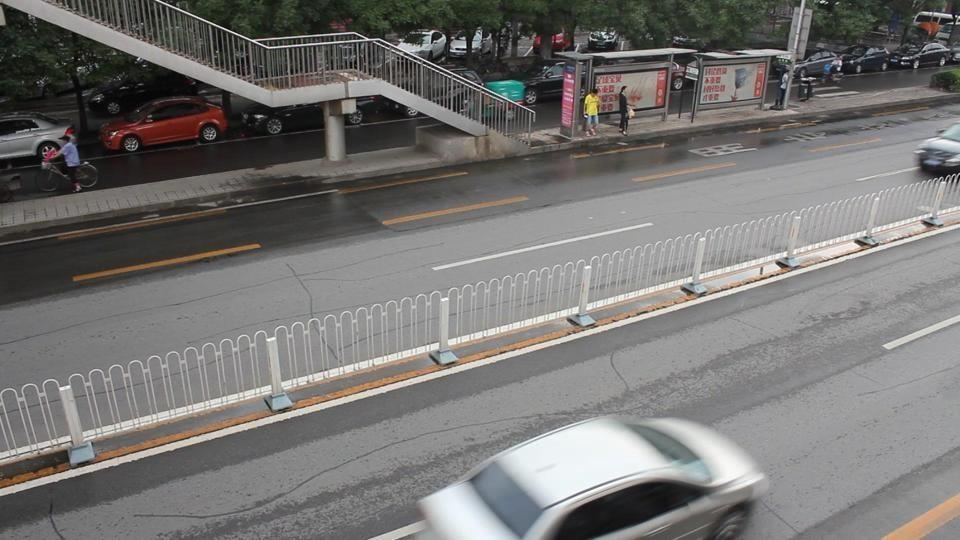car: (386, 415, 773, 537), (98, 96, 228, 154), (484, 60, 575, 104), (1, 115, 77, 166), (914, 121, 960, 177), (397, 29, 448, 61), (901, 43, 960, 69), (795, 53, 843, 83), (843, 47, 890, 74), (576, 30, 622, 53), (447, 34, 468, 59)
